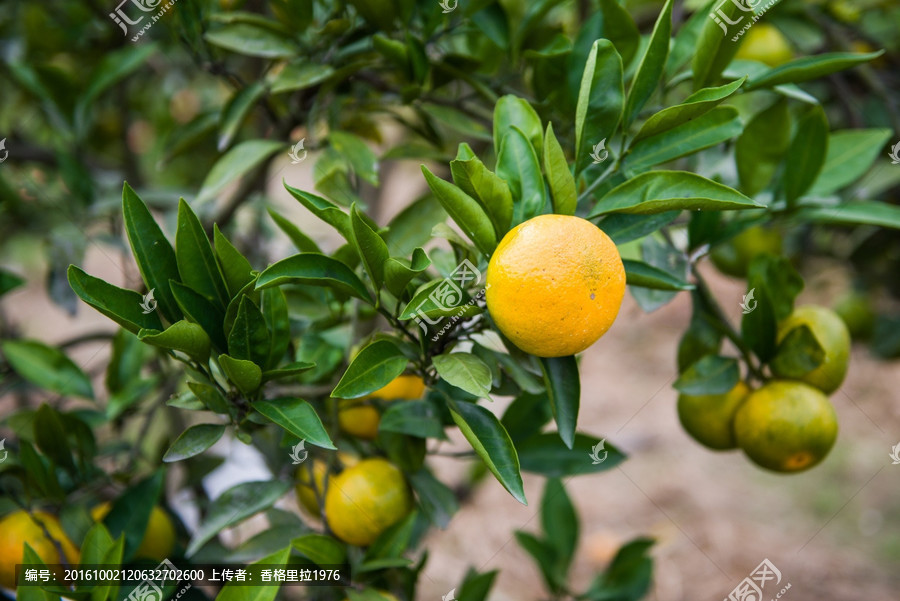orange: (482, 214, 627, 360), (737, 381, 838, 477), (761, 303, 852, 399), (678, 351, 761, 452), (323, 454, 408, 547)
